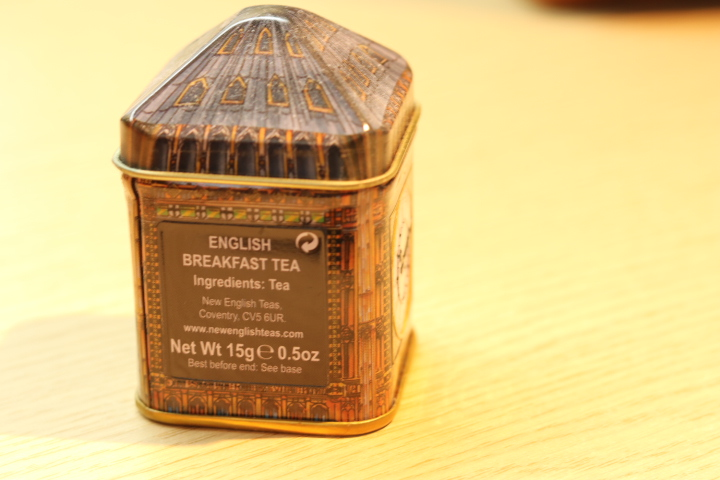Big Ben: (105, 1, 441, 452)
